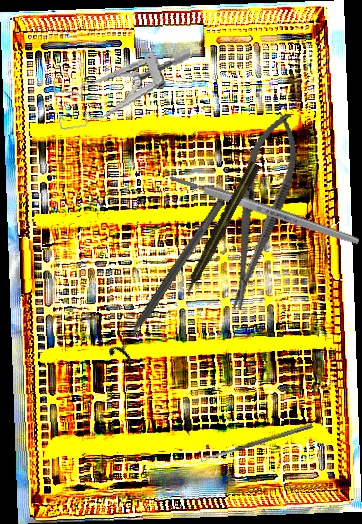Fixation Ring: (105, 193, 234, 370)
Handpiece: (180, 160, 262, 298)
Needle Holder: (211, 106, 309, 316)
Scalpel Handle: (168, 171, 361, 248)
Speculum: (49, 45, 200, 132)
Surgical Spoon: (199, 423, 314, 462)
